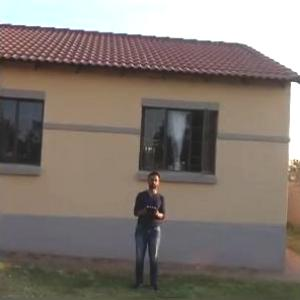follow: (126, 167, 169, 294)
